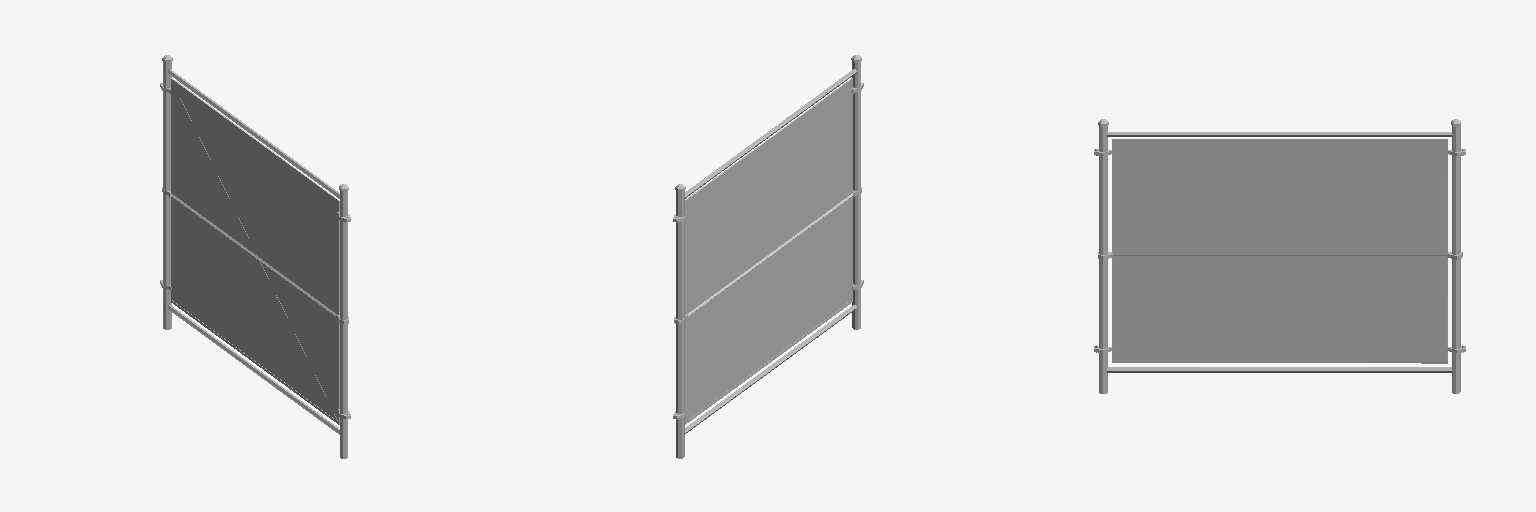
File: Fence.obj
3 views of the same model, side by side, from view 1: azimuth 30°, elevation 25°; view 2: azimuth 150°, elevation 25°; view 3: azimuth 270°, elevation 25° (orthographic).
Parts seen in each view (by area): view 1: fence; view 2: fence; view 3: fence.
Part boxes in pixels (x1,y1,x2,y2): fence: (160, 55, 350, 458); fence: (673, 55, 863, 458); fence: (1094, 119, 1465, 393).
Bounding box in the file's own units: 0.1109 × 2.72 × 3.36.